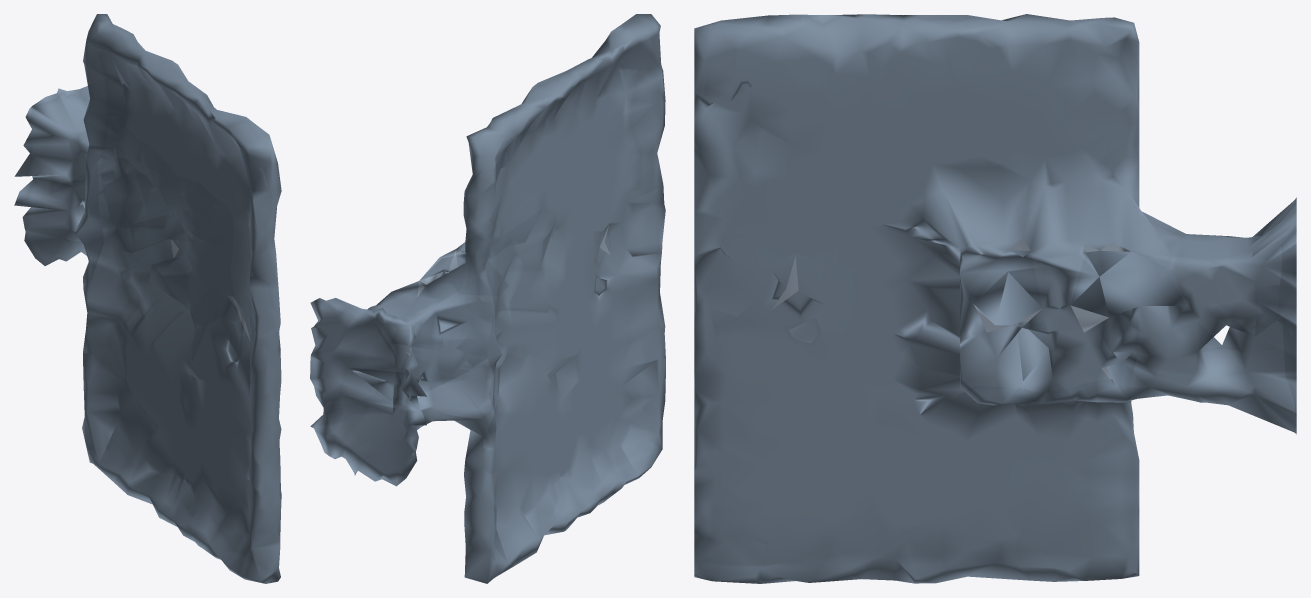
Rendered from monitor_0038_original.obj.
3 views of the same model, side by side, from view 1: azimuth 30°, elevation 25°; view 2: azimuth 150°, elevation 25°; view 3: azimuth 270°, elevation 25° (orthographic). The views are drawn at different scales.
Size of the model in its own units: 0.3955 by 1.36 by 1.34.
